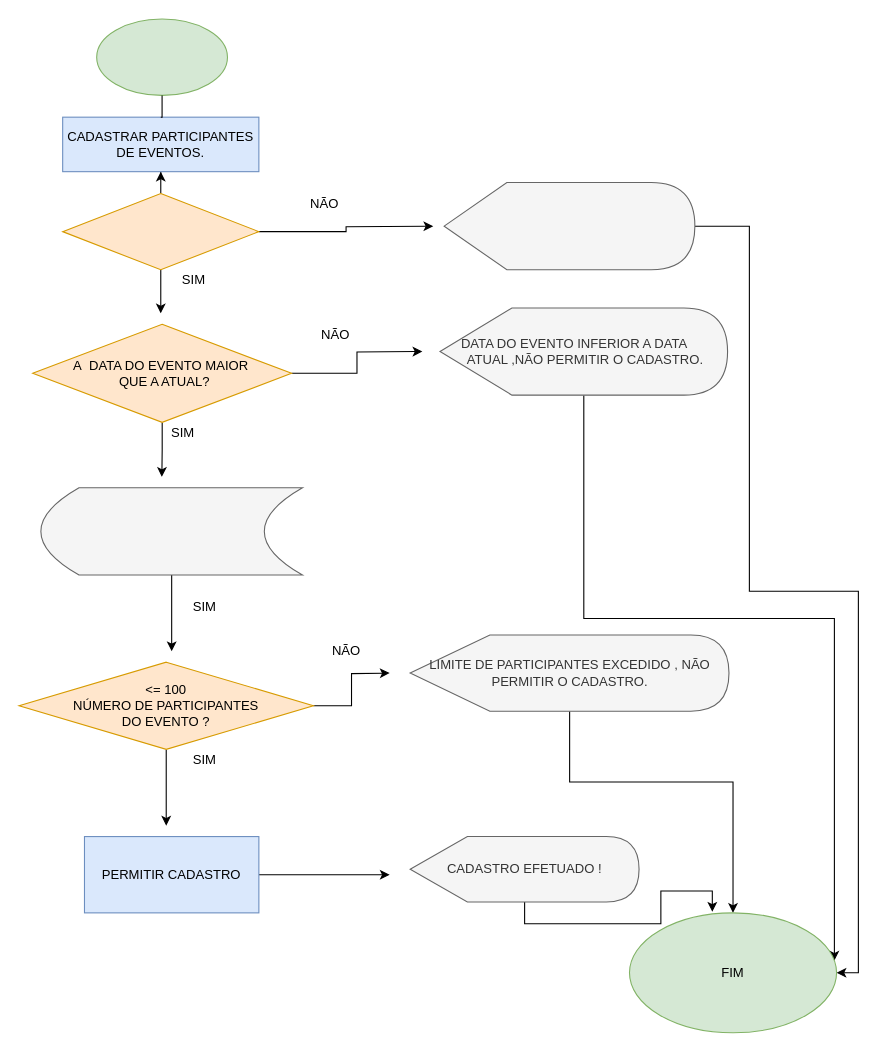
The diagram is 886 pixels wide and 1052 high, and some of its shapes have lost their labels. The shapes that lost their labels are listed below. From the top down, each one's centre as x and y in pixels, then its label:
(161,56): INÍCIO
(160,231): É MAIOR DE 18 ANOS?
(569,225): CADASTRO NÃO PERMITIDO PARA MENORES DE 18 ANOS
(171,531): LISTAR PARTICIPANTES E PALESTRANTES
